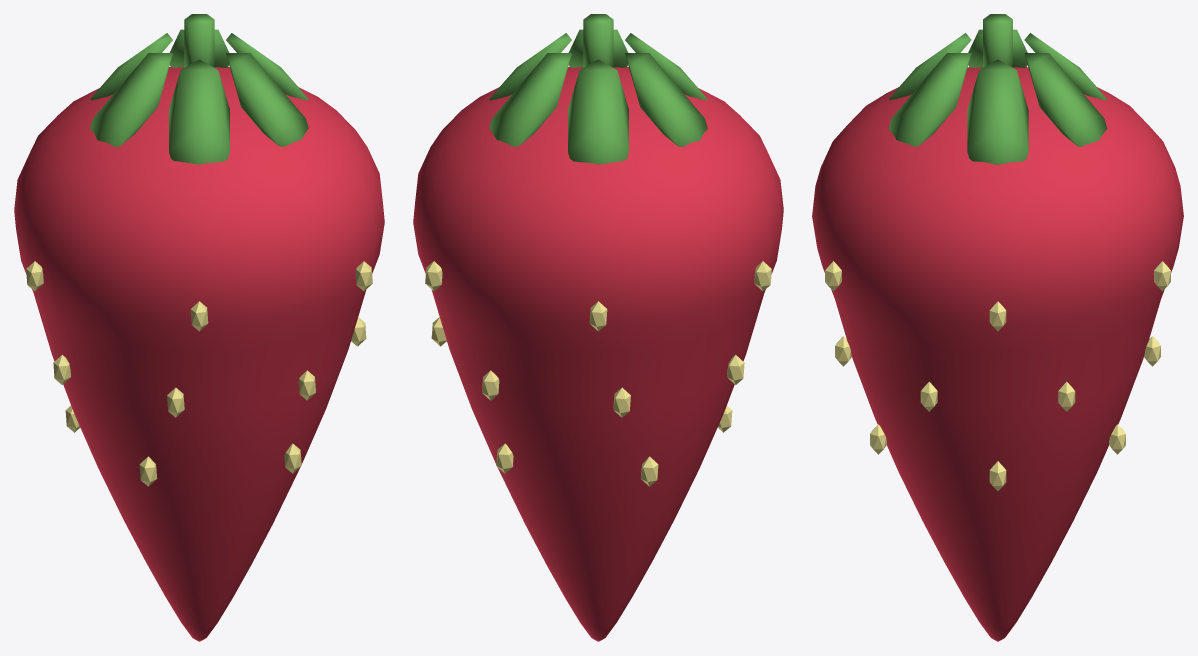
Rendered from strawberry.glb.
The picture shows the model from 3 angles, left to right: view 1: azimuth 30°, elevation 25°; view 2: azimuth 150°, elevation 25°; view 3: azimuth 270°, elevation 25°; orthographic projection.
Parts seen in each view (by area): view 1: strawberry; view 2: strawberry; view 3: strawberry.
Boxes of the visible parts, x1,y1,x2,y2 form: strawberry: (14,14,384,641); strawberry: (413,14,783,641); strawberry: (812,14,1183,641).
Bounding box in the file's own units: 0.5791 × 1 × 0.5415.
